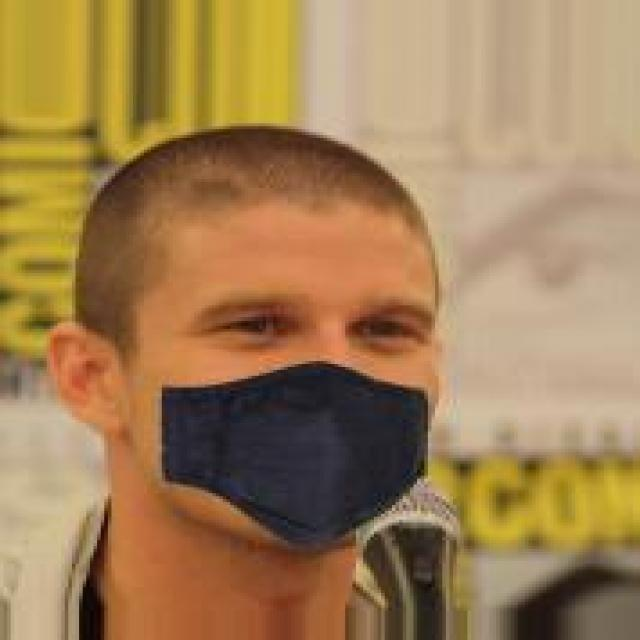mask: (50, 97, 500, 549)
